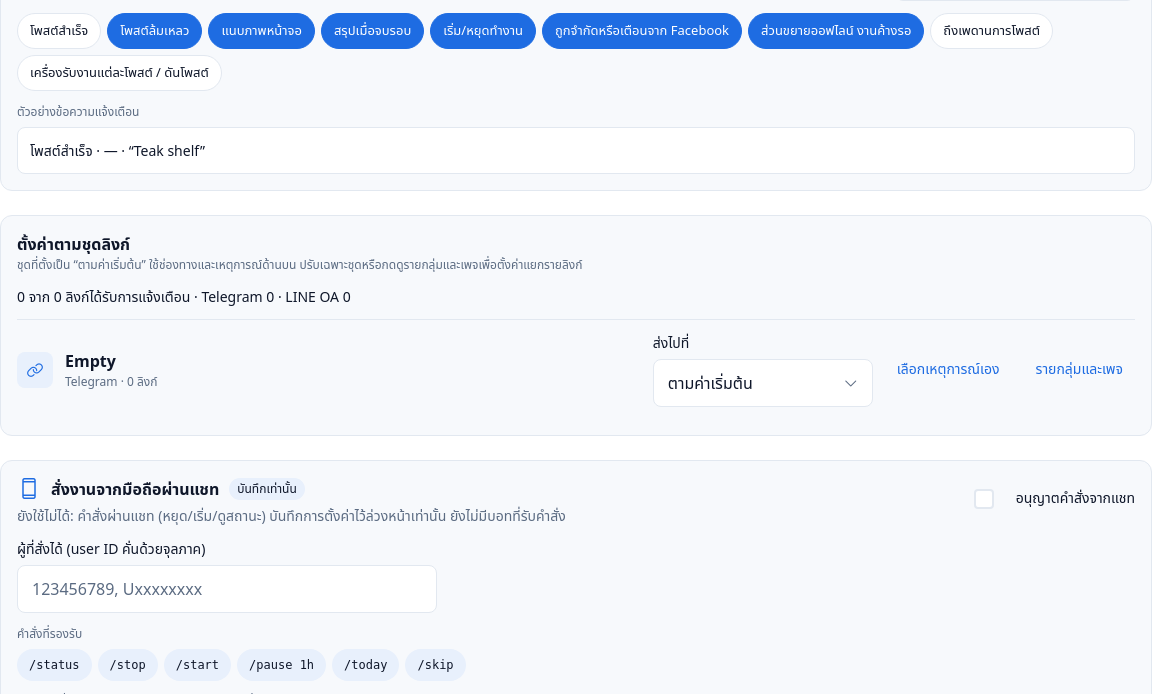
Test: NotifyPageComponent › per link set › says when a set has no group that posts
(page scrolled)
Click the button "รายกลุ่มและเพจ": point(1079, 370) [1024, 348, 1135, 392]
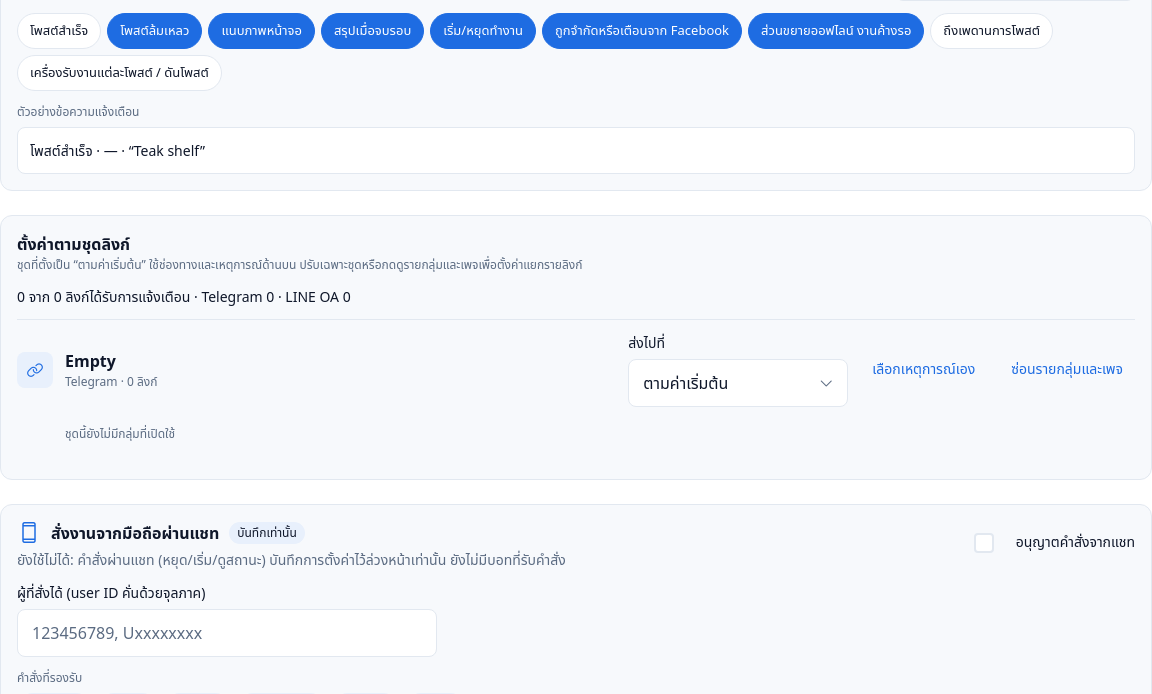
Check: the element that starts with "Empty" shows "ชุดนี้ยังไม่มีกลุ่มที่เปิดใช้", box [65, 425, 175, 442]
